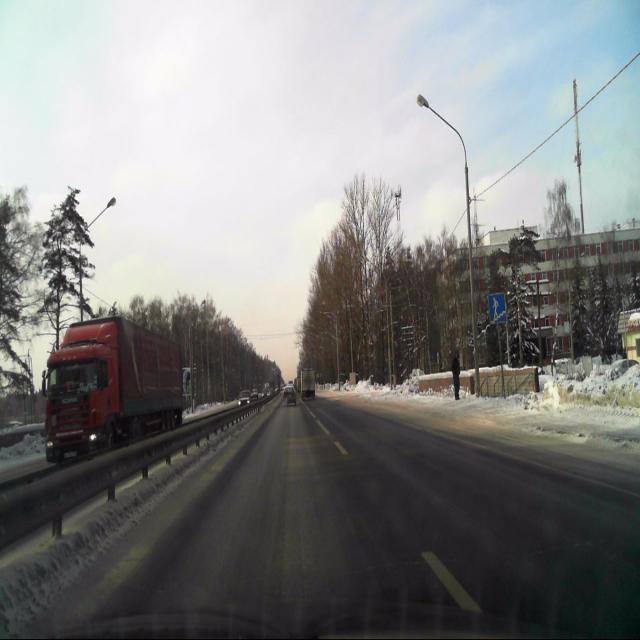road sign: (488, 292, 506, 324)
